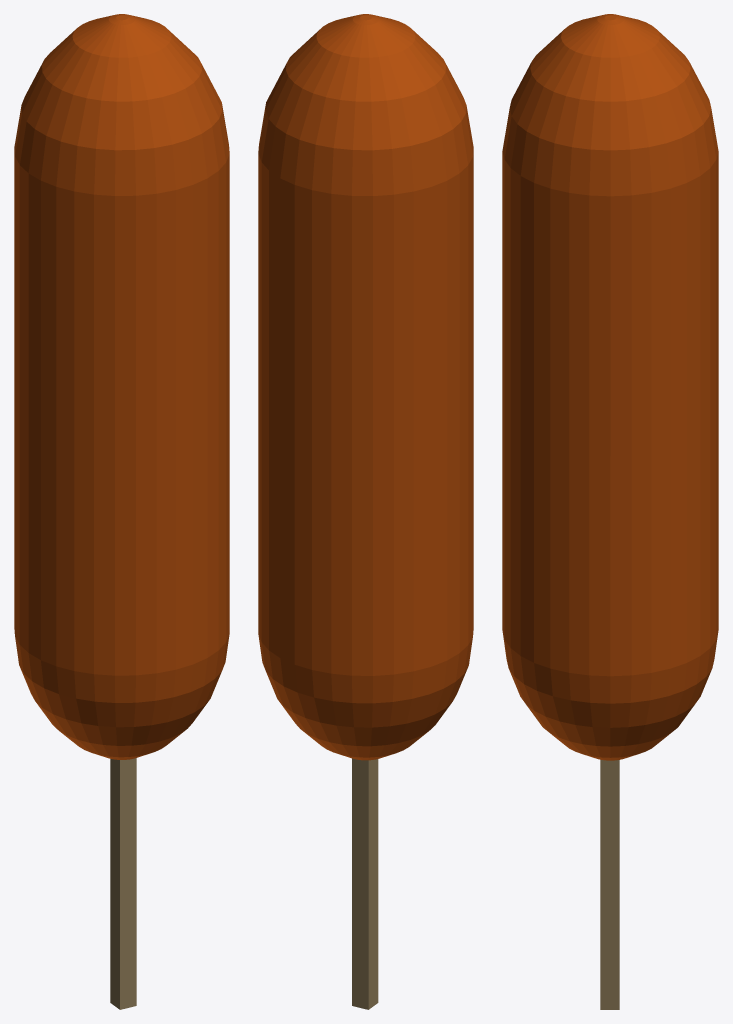
The model's file is frankfurt.fbx.
3 renders of one model, left to right at view 1: azimuth 30°, elevation 25°; view 2: azimuth 150°, elevation 25°; view 3: azimuth 270°, elevation 25°, orthographic.
Visible parts, largest first — view 1: Cylinder, Cube; view 2: Cylinder, Cube; view 3: Cylinder, Cube.
Part boxes in pixels (x1,y1,x2,y2): Cylinder: [14, 14, 229, 759]; Cube: [110, 758, 136, 1009]; Cylinder: [258, 14, 473, 760]; Cube: [352, 758, 378, 1009]; Cylinder: [502, 14, 718, 760]; Cube: [600, 759, 619, 1009].
Bounding box in the file's own units: 200 × 1009 × 200.
